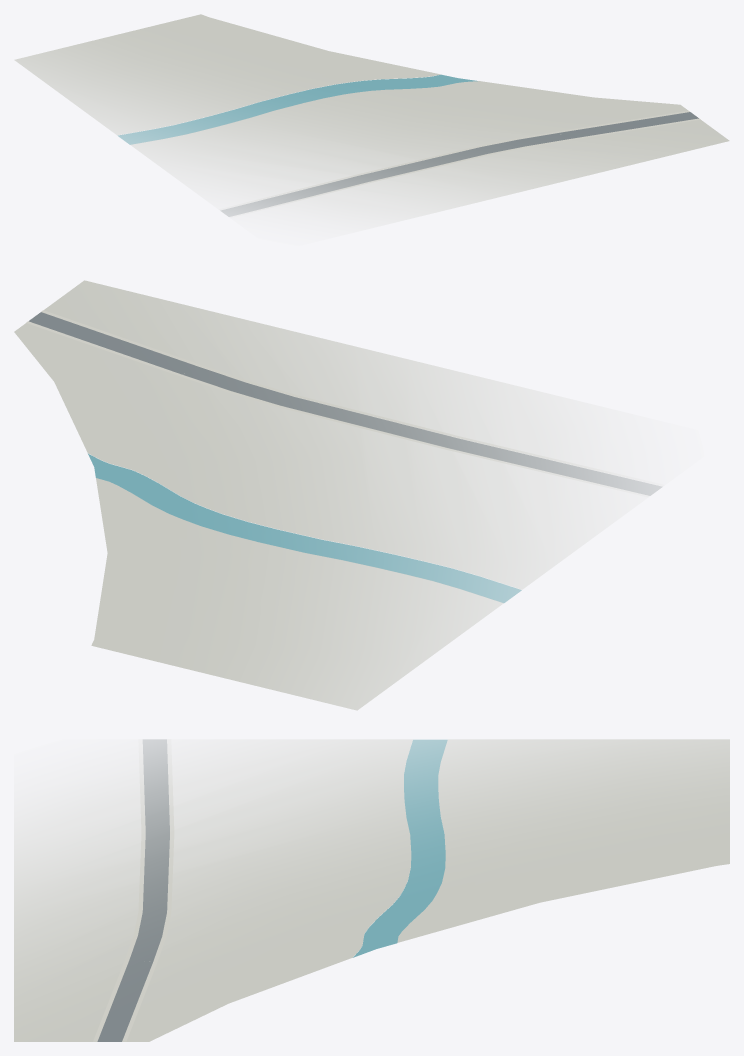
The picture shows the model from 3 angles, top to bottom: view 1: azimuth 30°, elevation 25°; view 2: azimuth 150°, elevation 25°; view 3: azimuth 270°, elevation 25°; orthographic projection. The views are drawn at different scales.
Parts seen in each view (by area): view 1: city; view 2: city; view 3: city.
Boxes of the visible parts, x1,y1,x2,y2 form: city: [14, 14, 729, 228]; city: [14, 280, 663, 710]; city: [14, 739, 729, 1041].
Bounding box in the file's own units: 500 × 0.4 × 500.
